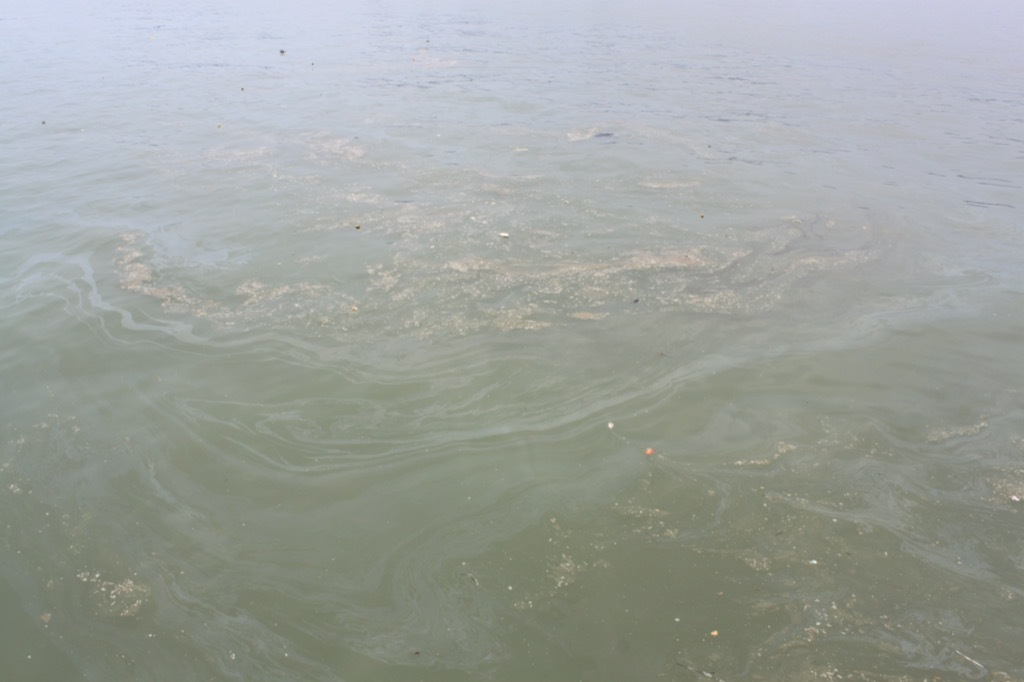organic: (462, 564, 491, 596), (646, 341, 676, 367), (586, 126, 619, 146), (407, 641, 430, 663), (31, 115, 55, 135), (271, 44, 295, 62), (234, 82, 255, 101), (628, 291, 646, 312), (695, 207, 710, 227), (704, 136, 718, 154)
plastic: (484, 220, 524, 254), (333, 212, 377, 242)
